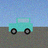vehicle: (9, 18, 33, 34)
